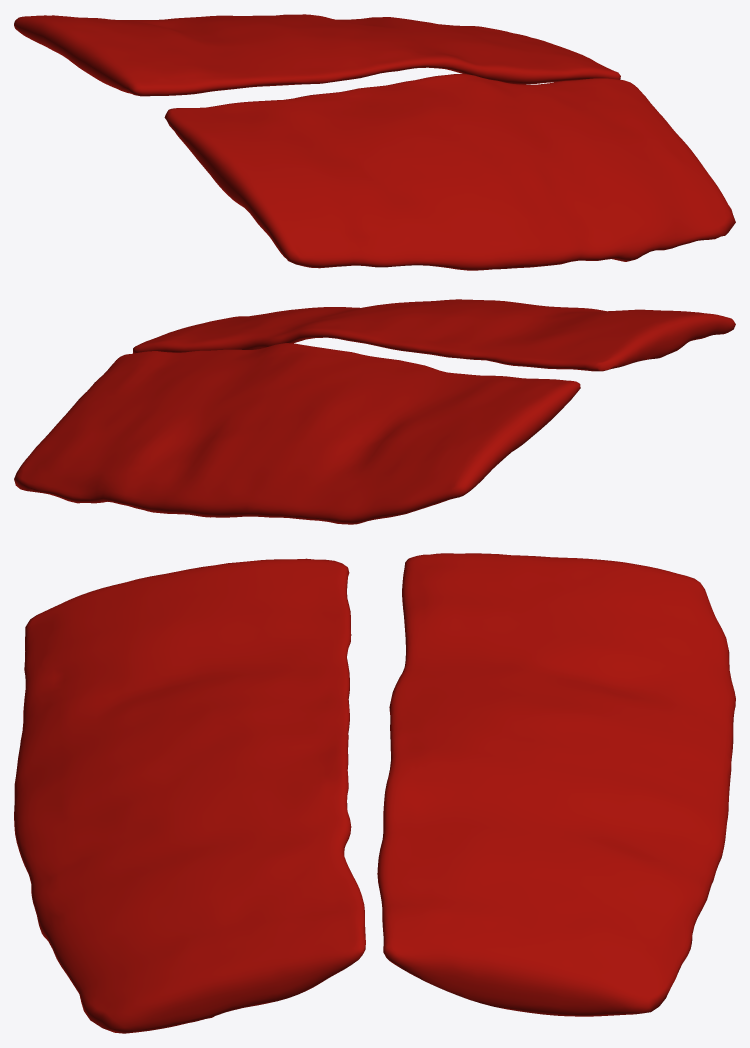
File: RectusAbdominis.obj
3 renders of one model, top to bottom at view 1: azimuth 30°, elevation 25°; view 2: azimuth 150°, elevation 25°; view 3: azimuth 270°, elevation 25°, orthographic. The views are drawn at different scales.
Parts seen in each view (by area): view 1: RectusAbdominis; view 2: RectusAbdominis; view 3: RectusAbdominis.
Part boxes in pixels (<box>): RectusAbdominis: <box>14,14,735,270</box>; RectusAbdominis: <box>14,299,735,524</box>; RectusAbdominis: <box>14,553,735,1033</box>.
Bounding box in the file's own units: 7.42 × 2.49 × 7.96.
